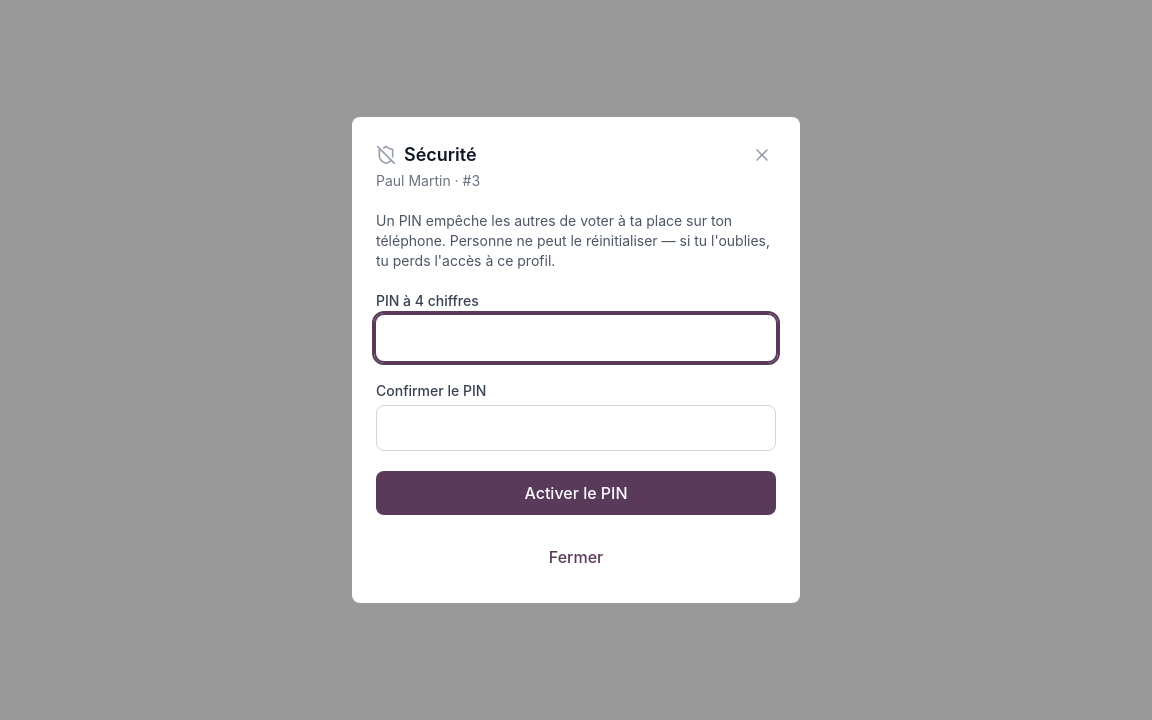
Scenario: SecurityModal — profil SANS PIN › refuse si les deux PIN ne correspondent pas
Type "1234" into the password field labelled "PIN à 4 chiffres" at (576, 338), box x1=376 y1=315 x2=776 y2=361
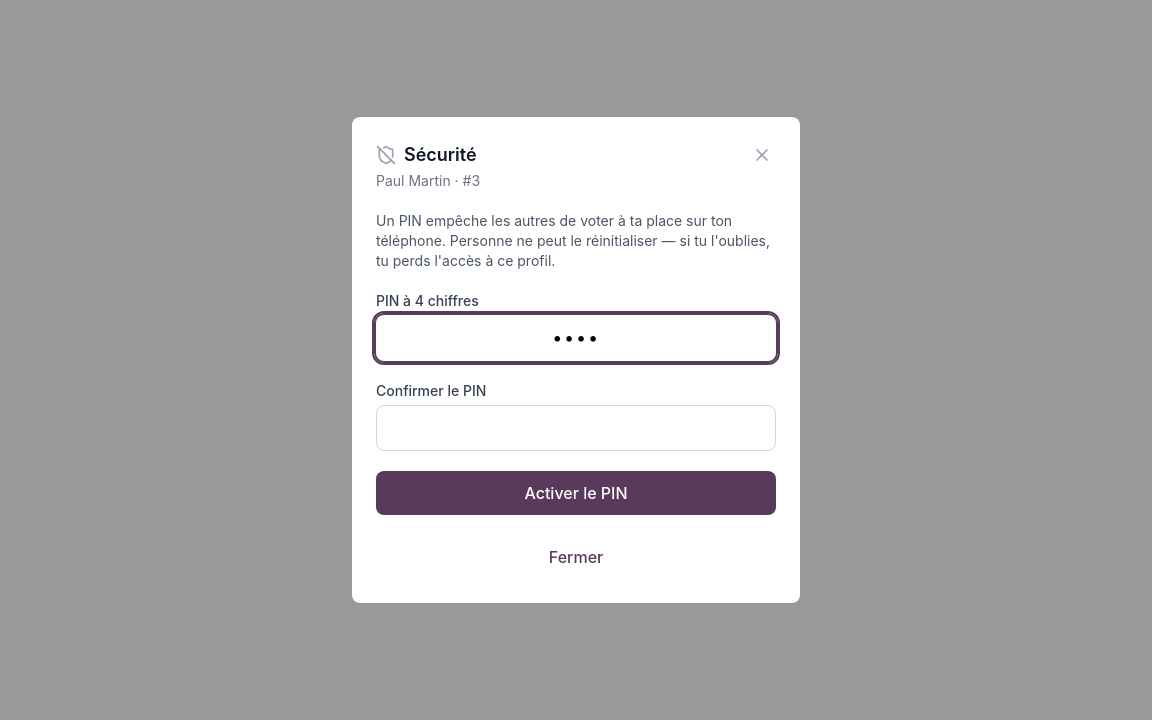
Type "4321" into the password field labelled "Confirmer le PIN" at (576, 428), box x1=376 y1=405 x2=776 y2=451
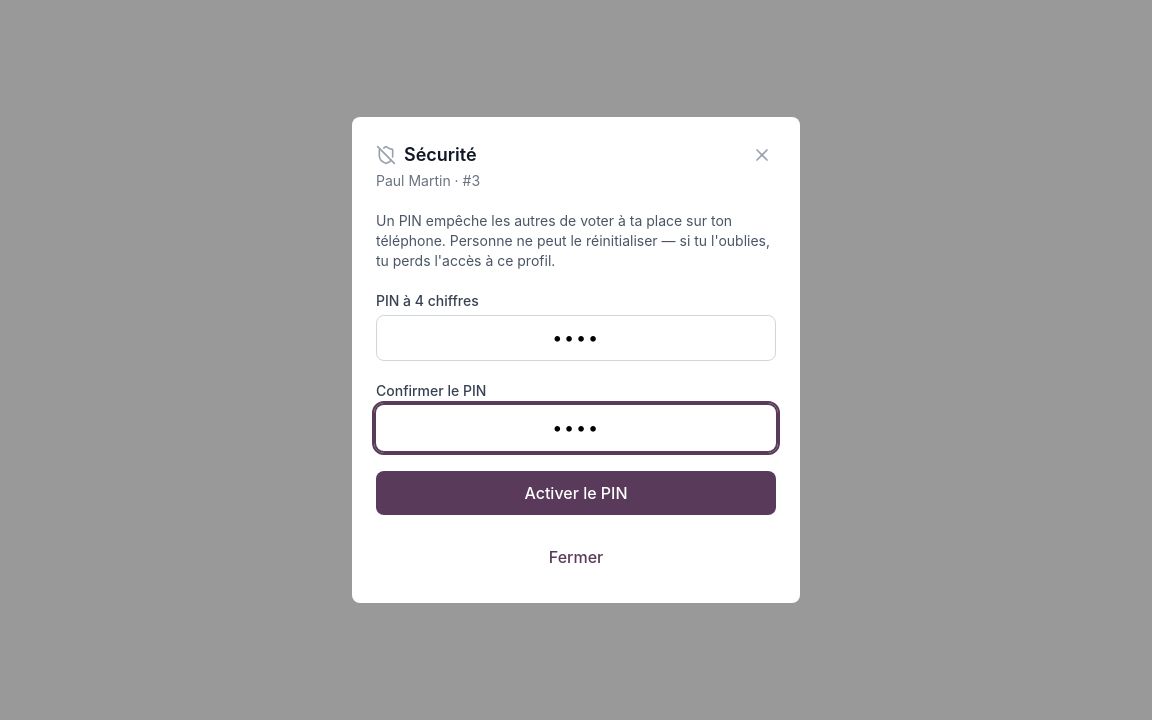
Click the button "Activer le PIN" at (576, 493), box x1=376 y1=471 x2=776 y2=515
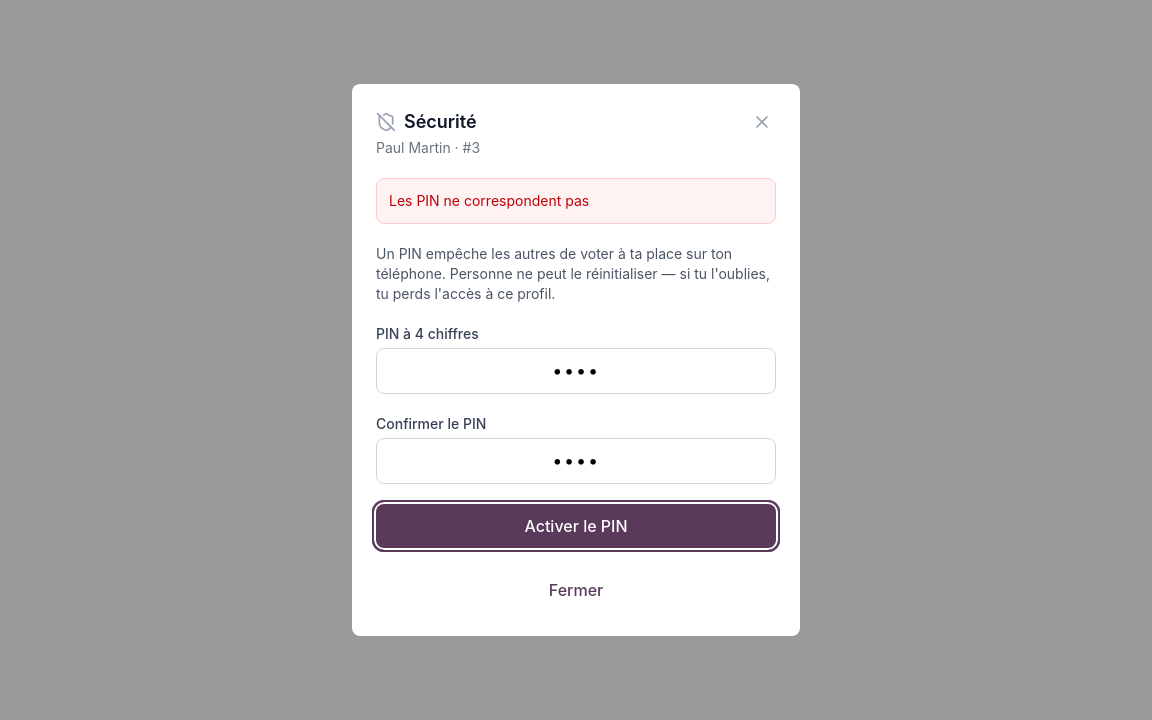
Expected: the message reads "Les PIN ne correspondent pas", x1=389 y1=192 x2=589 y2=209
